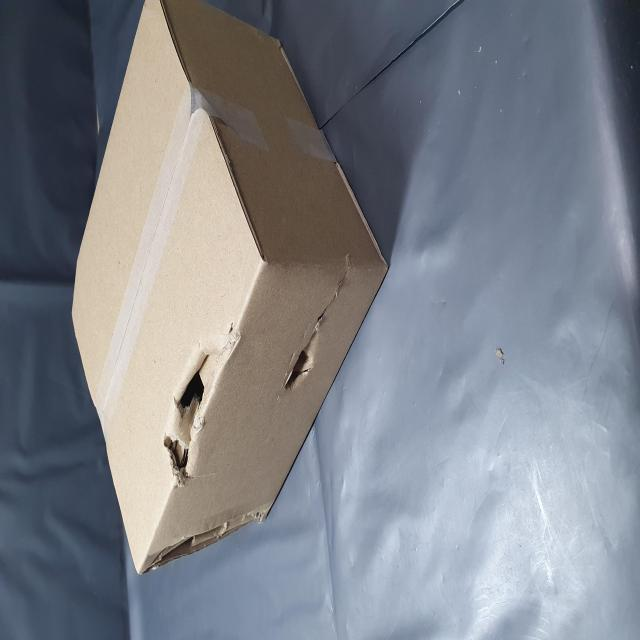damaged: (138, 500, 214, 630), (83, 296, 161, 404)
